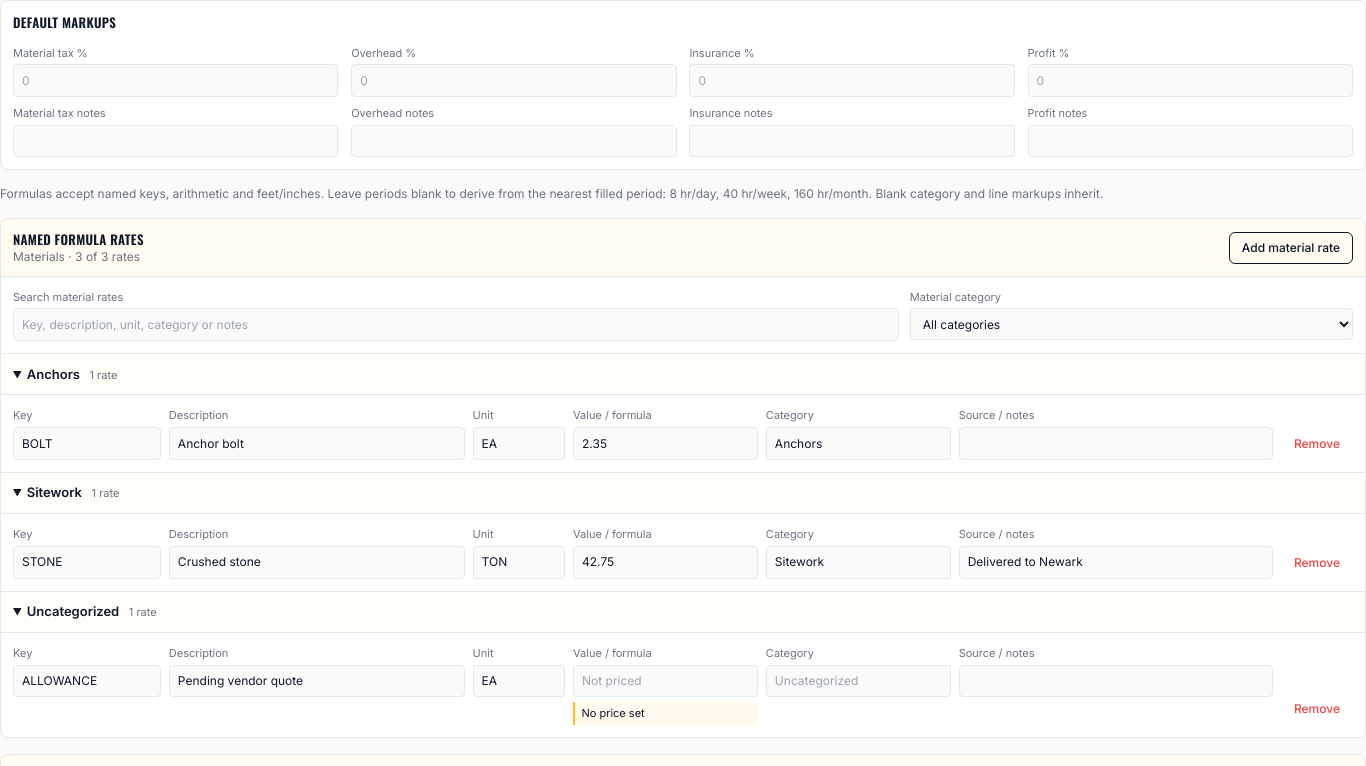
Test: RatesEditor › groups alphabetically with Uncategorized last, and collapses groups
Click the heading "Anchors1 rate".
click(53, 374)  # box [1,353,1365,396]
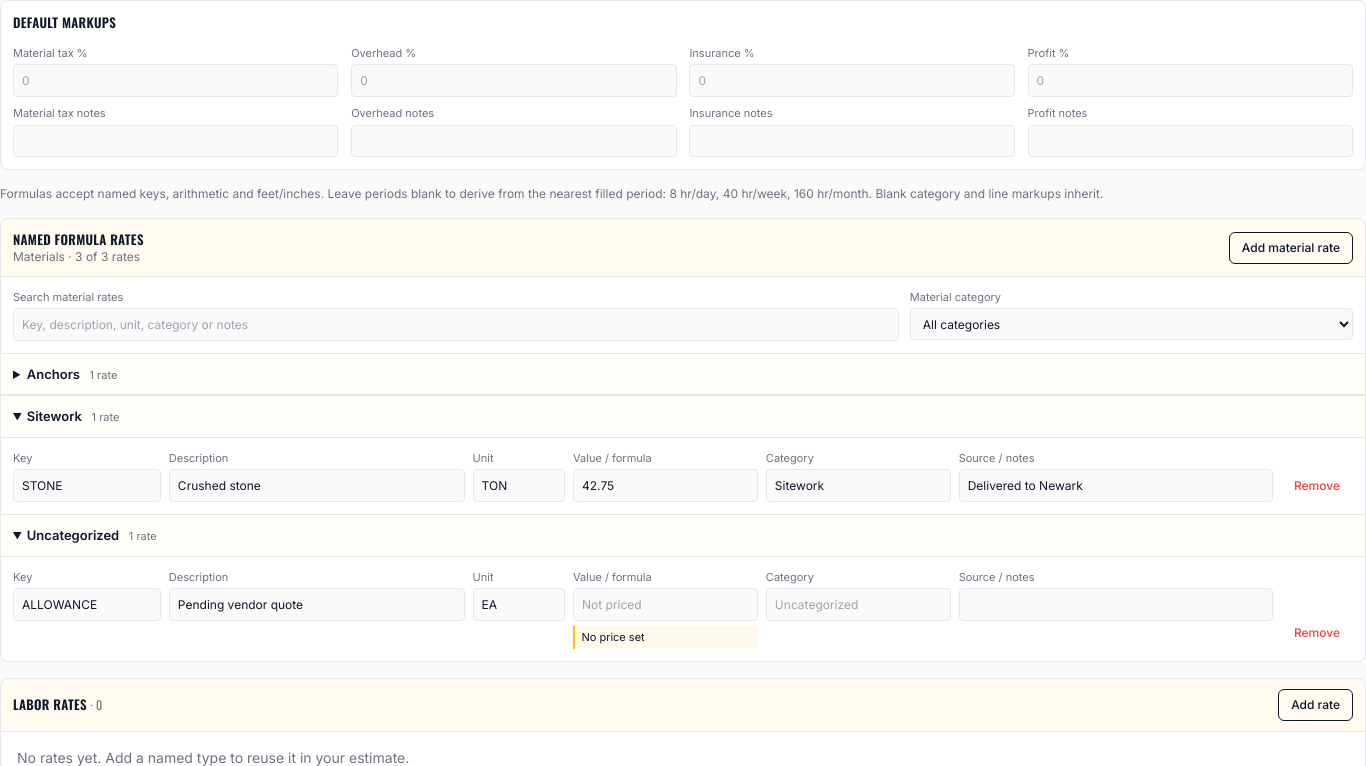
Expected: the element showing "Anchors1 rate" does not have attribute open
Click the heading "Anchors1 rate".
click(53, 374)  # box [1,353,1365,396]
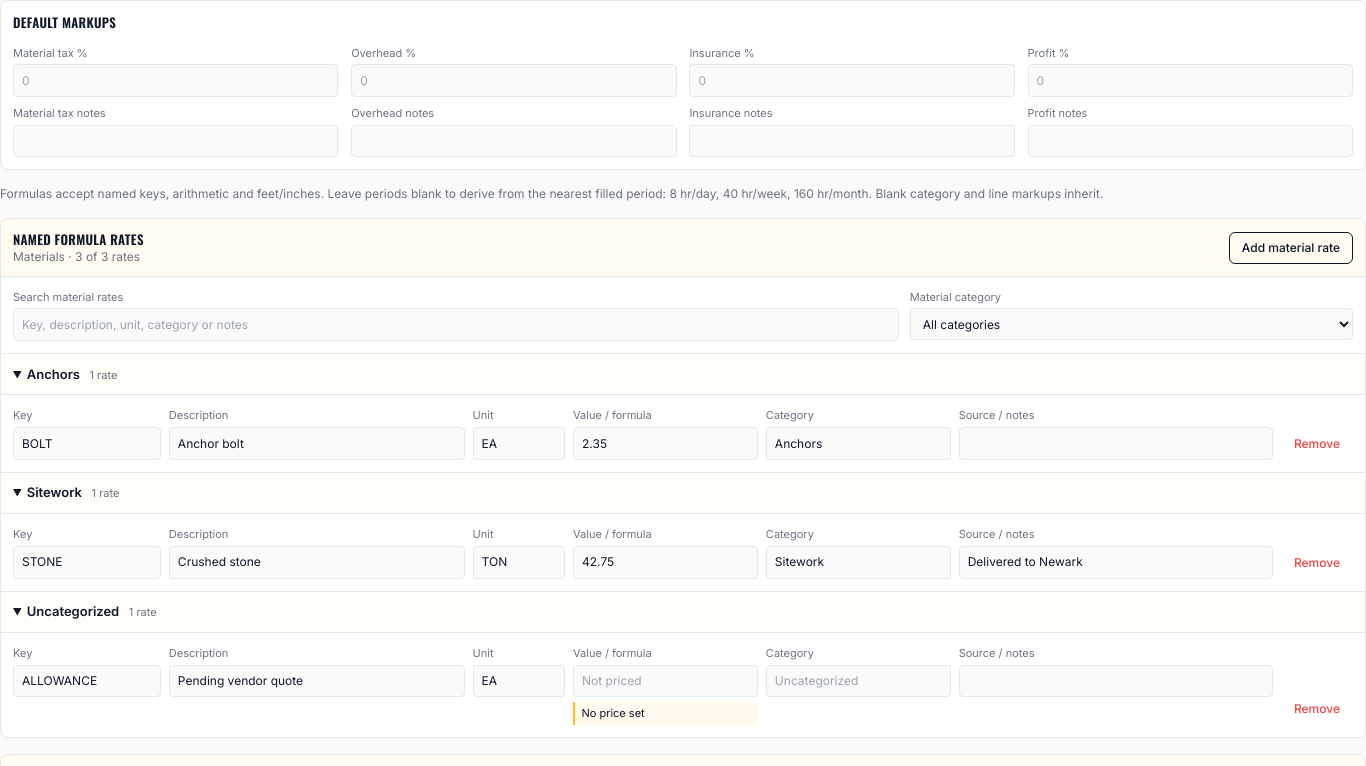
Expected: the text "No price set" is shown, [573,702,758,725]
Expected: the element that starts with "Anchors" has attribute open, [1,353,1365,472]
